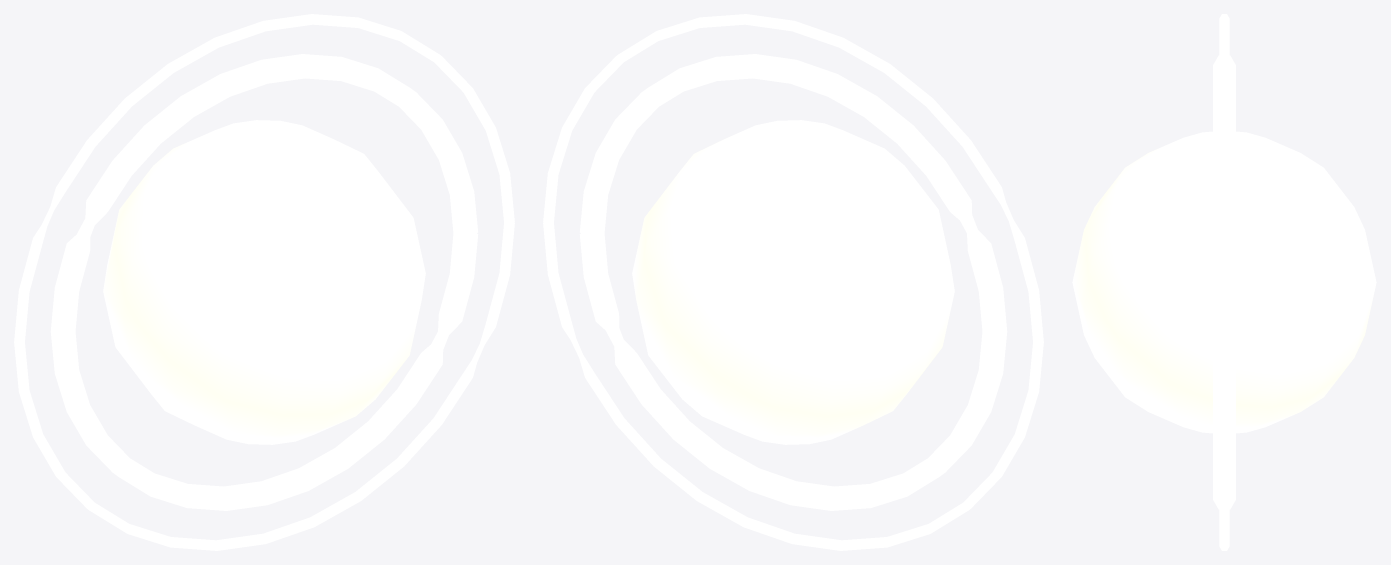
File: PhotonSource.glb
The picture shows the model from 3 angles, left to right: view 1: azimuth 30°, elevation 25°; view 2: azimuth 150°, elevation 25°; view 3: azimuth 270°, elevation 25°; orthographic projection. The views are drawn at different scales.
Visible parts, largest first — view 1: SourceGold, SourceHalo, SourceOrbit; view 2: SourceGold, SourceHalo, SourceOrbit; view 3: SourceGold, SourceHalo, SourceOrbit.
Part boxes in pixels (<box>): SourceGold: <box>103,120,425,444</box>; SourceHalo: <box>50,54,478,510</box>; SourceOrbit: <box>14,14,514,550</box>; SourceGold: <box>632,120,954,444</box>; SourceHalo: <box>579,54,1007,510</box>; SourceOrbit: <box>543,14,1043,550</box>; SourceGold: <box>1072,131,1376,433</box>; SourceHalo: <box>1213,55,1235,509</box>; SourceOrbit: <box>1219,14,1229,550</box>.
Bounding box in the file's own units: 0.0742 × 0.0742 × 0.042.
